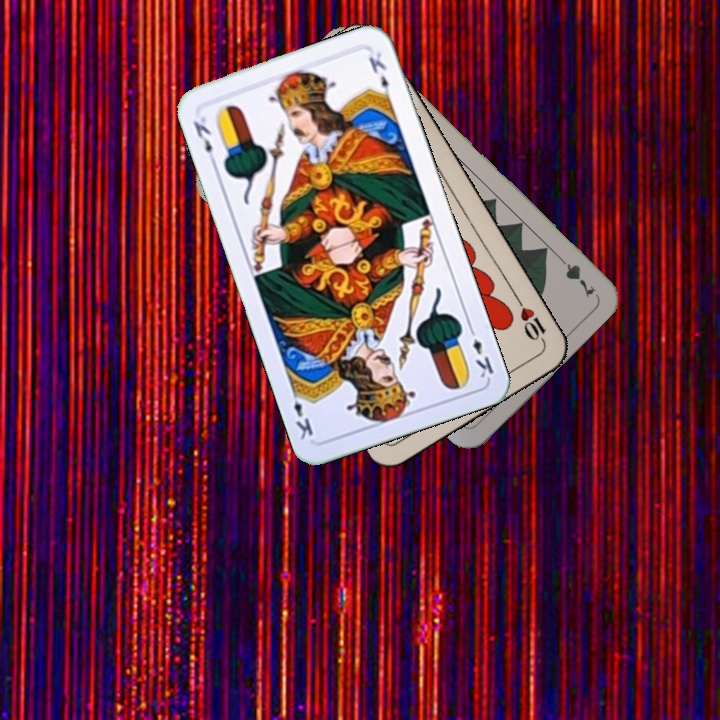EK: (464, 322, 497, 381), (189, 112, 220, 167)
G7: (552, 250, 598, 300)
H10: (511, 293, 549, 346)
